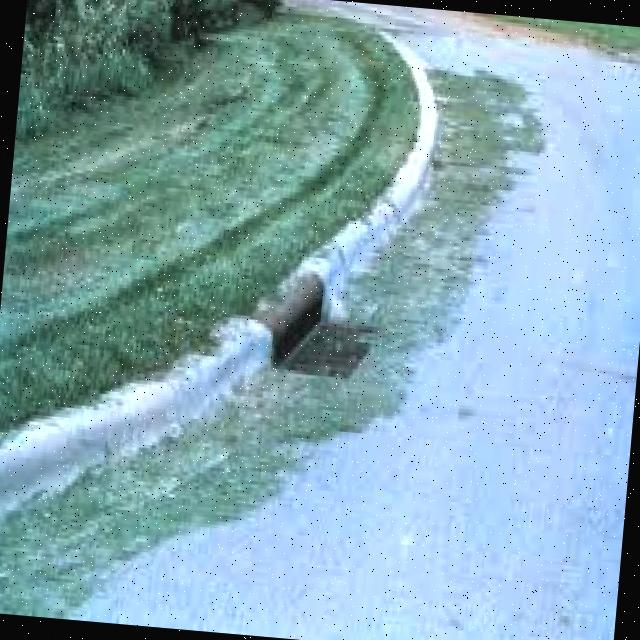curb: (1, 309, 253, 549), (211, 184, 403, 384), (366, 28, 456, 215)
